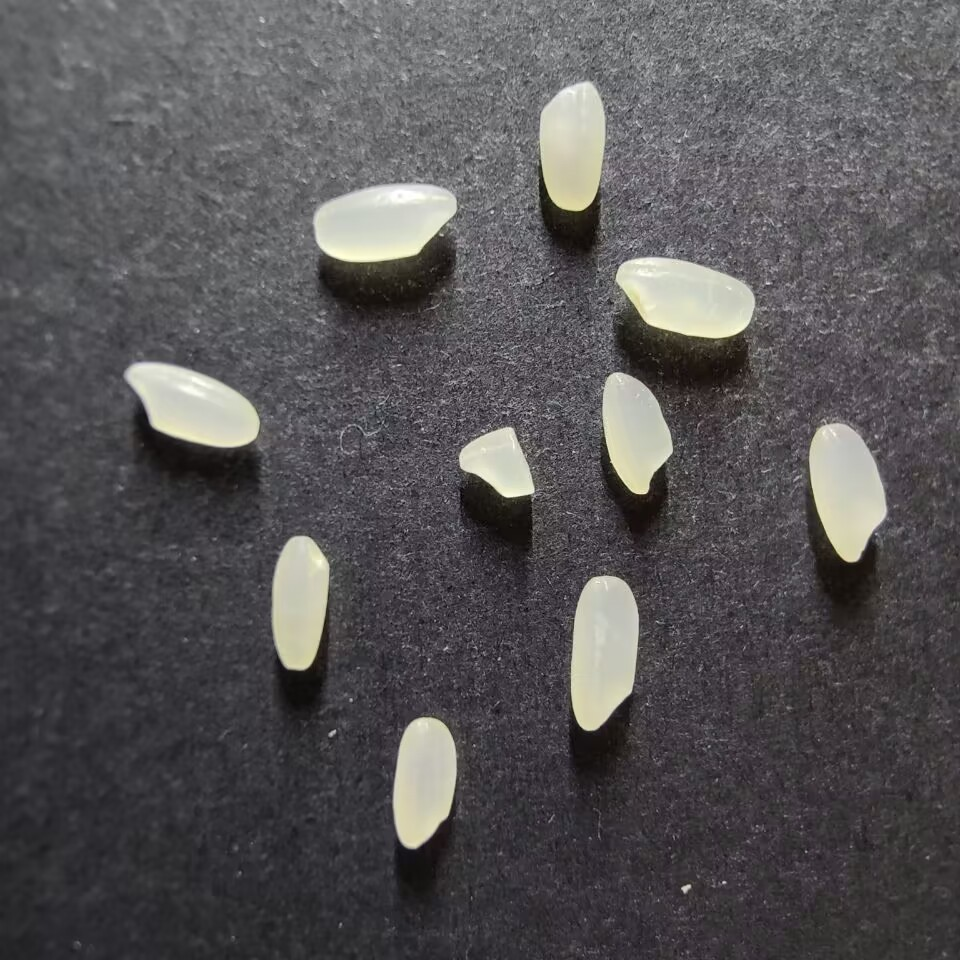broken: (457, 425, 535, 498)
rice: (614, 256, 756, 339), (312, 183, 458, 263), (124, 361, 259, 447), (807, 422, 887, 563), (568, 575, 639, 732), (537, 81, 605, 211), (601, 371, 672, 495), (392, 716, 456, 849), (270, 534, 330, 671)
